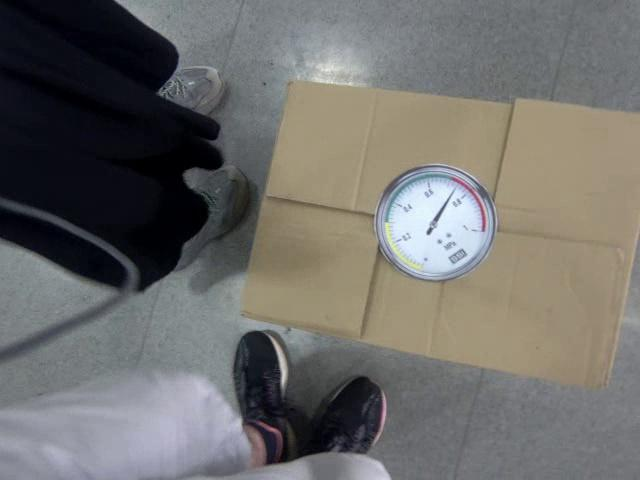Dashboard: (376, 162, 499, 283)
ssi: (445, 248, 466, 264)
